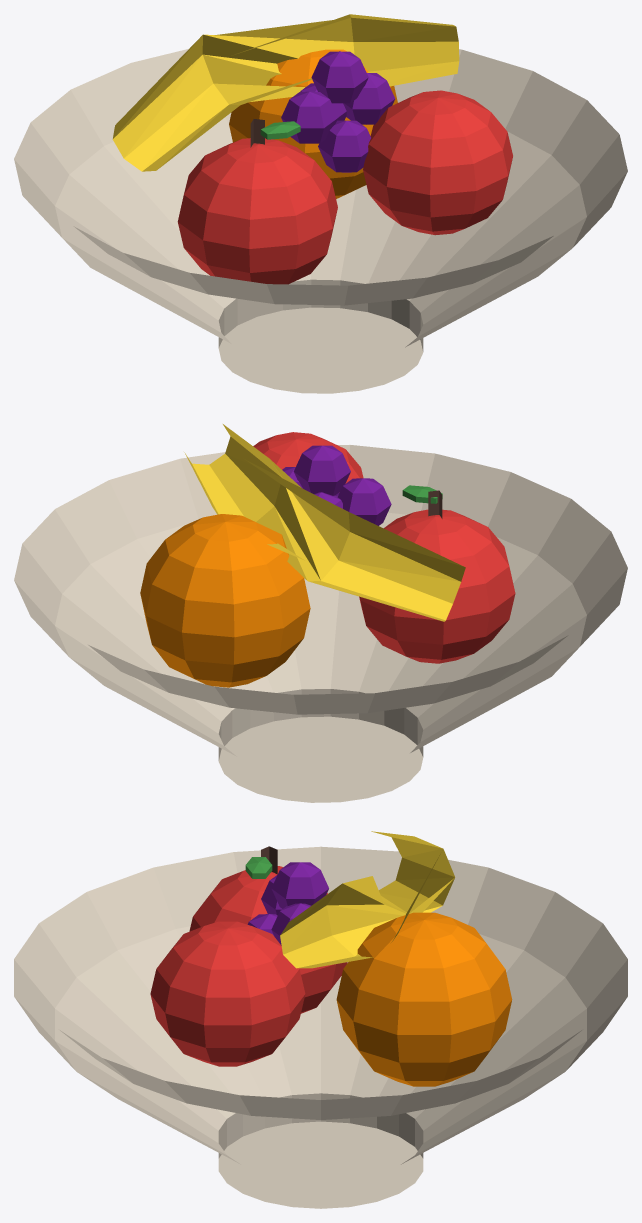
File: fruktskal.glb
The picture shows the model from 3 angles, top to bottom: view 1: azimuth 30°, elevation 25°; view 2: azimuth 150°, elevation 25°; view 3: azimuth 270°, elevation 25°; orthographic projection.
Visible parts, largest first — view 1: fruktskal; view 2: fruktskal; view 3: fruktskal.
Boxes of the visible parts, x1,y1,x2,y2 form: fruktskal: [14, 14, 627, 393]; fruktskal: [14, 424, 627, 802]; fruktskal: [14, 831, 627, 1208].
Size of the model in its own units: 0.6 by 0.3293 by 0.5939.
